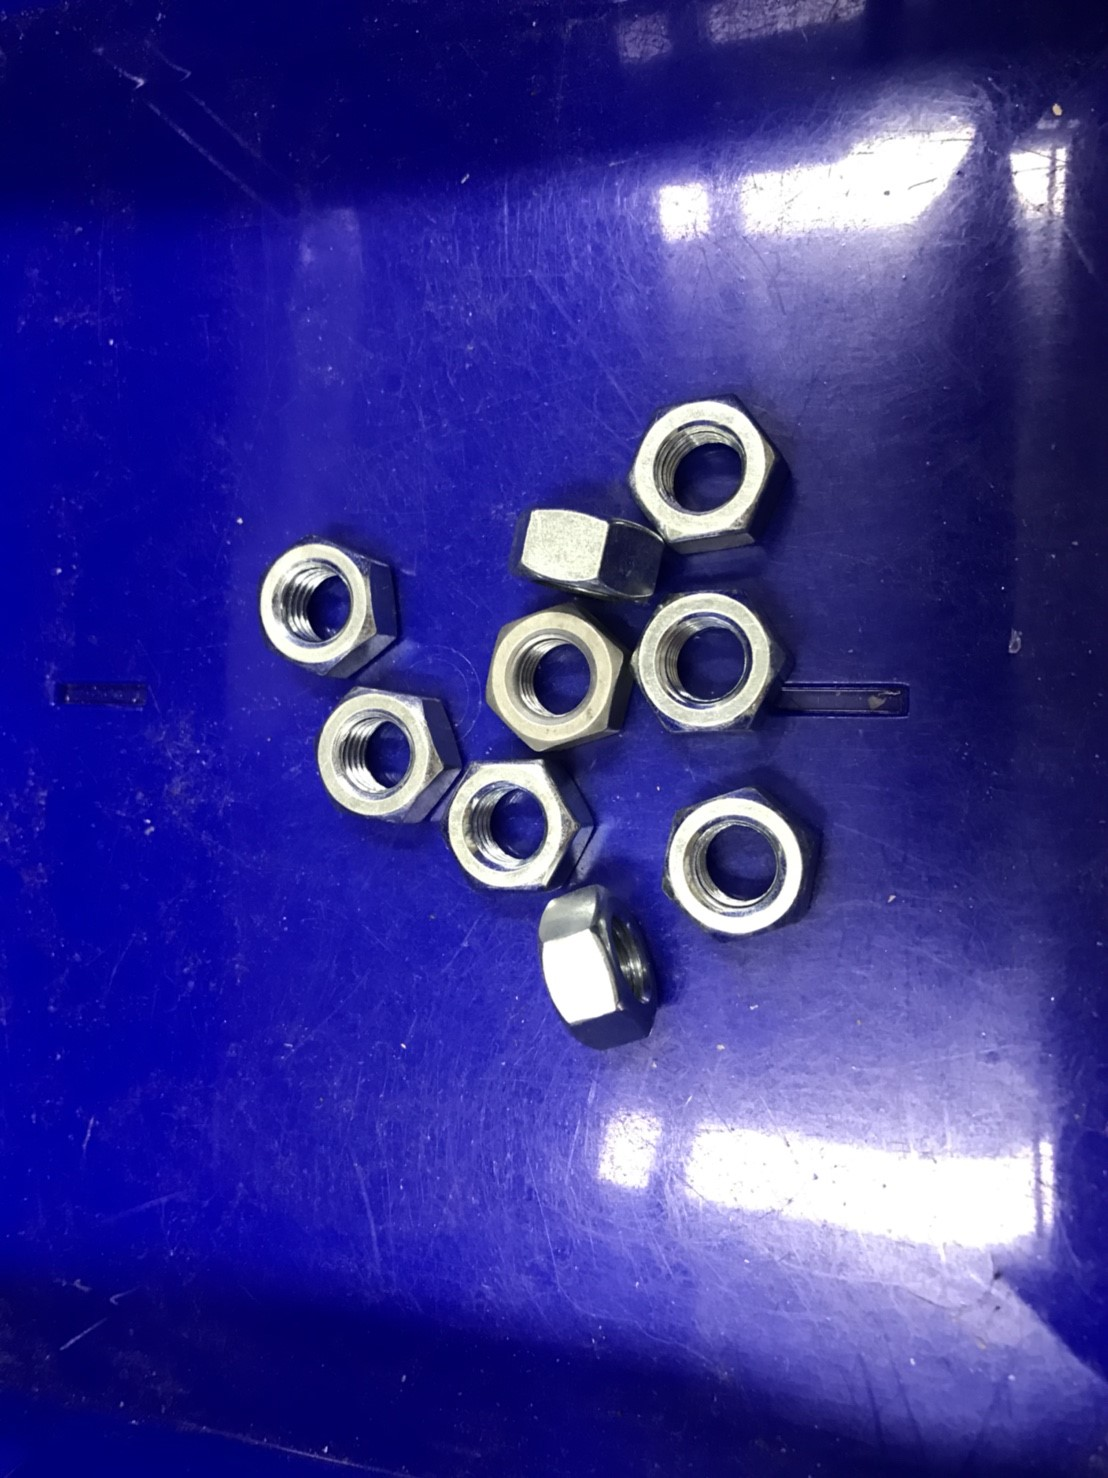nut: (658, 774, 832, 944), (628, 378, 789, 559), (241, 525, 404, 681), (475, 602, 628, 756), (632, 587, 791, 736), (439, 763, 605, 893), (311, 681, 464, 820), (539, 881, 658, 1049), (517, 502, 665, 607)
